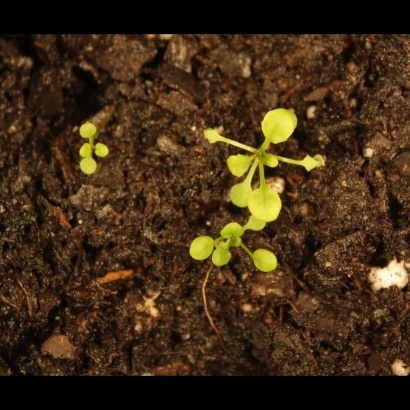leaf: (257, 101, 299, 146), (247, 186, 283, 225), (296, 151, 336, 180), (220, 151, 260, 178), (228, 175, 254, 212), (251, 247, 282, 277), (199, 121, 229, 150), (76, 113, 104, 140), (220, 220, 246, 249), (188, 235, 214, 262), (211, 243, 234, 269), (77, 156, 100, 179), (95, 138, 118, 161), (71, 140, 94, 163), (245, 212, 268, 235), (261, 148, 284, 171)
